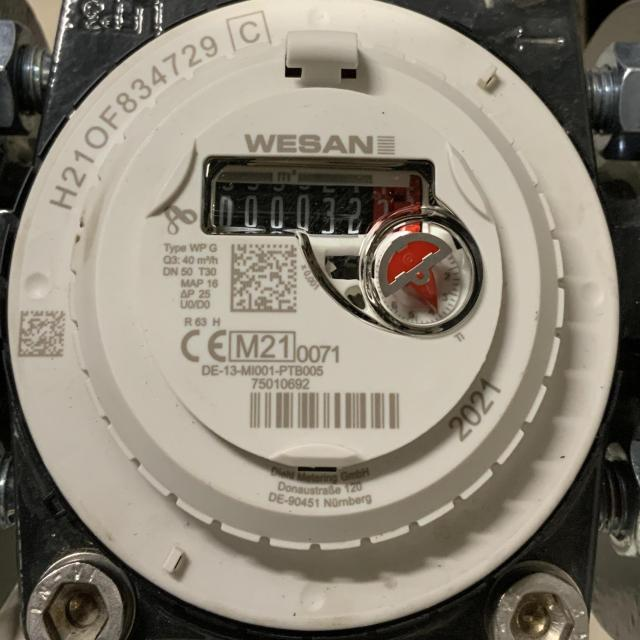gaz_meter: (7, 7, 622, 631)
indication: (210, 164, 422, 238)
